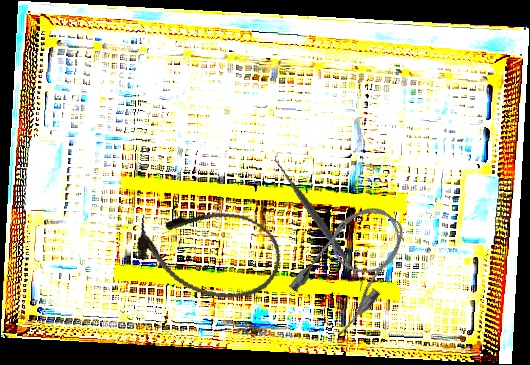Cannula: (283, 193, 423, 340), (129, 194, 288, 309)
Spatula Surgical: (247, 151, 391, 293)
